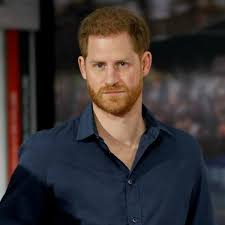No-Glasses: (81, 54, 138, 75)
